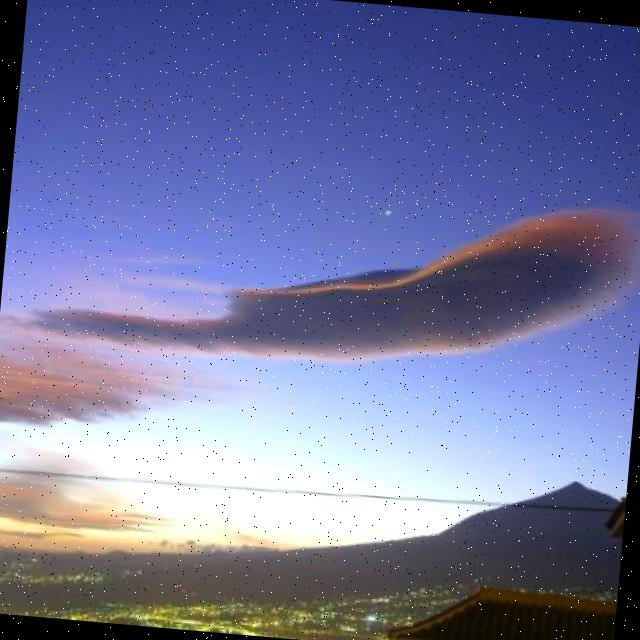Ac: (1, 143, 640, 481)
